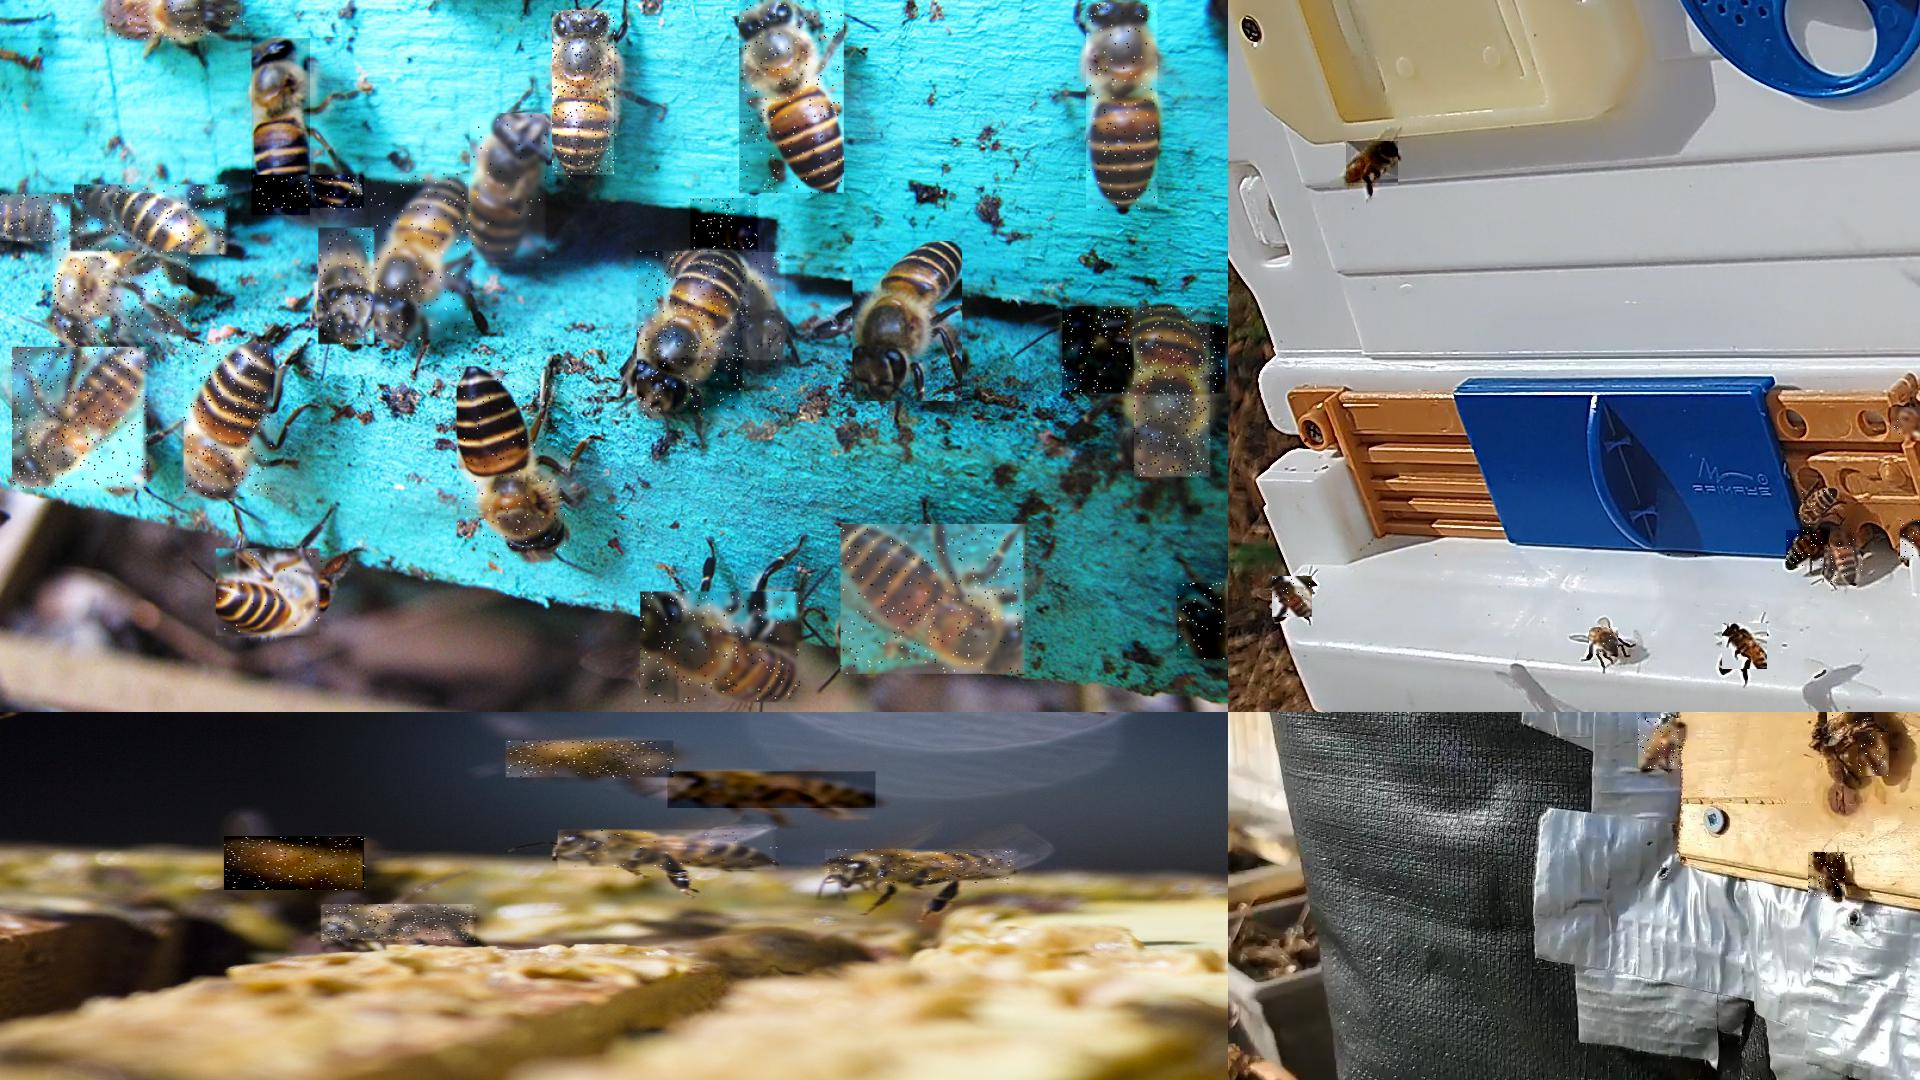bee: (841, 524, 1029, 675), (458, 368, 570, 559), (53, 194, 191, 347), (740, 0, 845, 195), (13, 348, 150, 493), (853, 241, 968, 402), (638, 252, 748, 419), (641, 592, 803, 704), (372, 174, 472, 342), (1087, 4, 1159, 212), (1063, 306, 1226, 394), (185, 344, 274, 498), (1135, 307, 1215, 479), (667, 252, 787, 361), (471, 113, 550, 262), (75, 185, 231, 256), (252, 38, 314, 216), (554, 12, 618, 179), (216, 549, 326, 637), (559, 829, 781, 872), (669, 771, 881, 810), (225, 836, 369, 890), (319, 228, 376, 345), (825, 849, 1015, 884), (506, 741, 675, 778), (105, 0, 245, 42), (322, 905, 477, 942), (257, 175, 368, 212), (1178, 583, 1226, 661), (691, 199, 760, 252), (0, 194, 65, 243), (1346, 141, 1399, 187), (1722, 622, 1768, 670), (1639, 719, 1681, 770), (1808, 853, 1846, 901), (1273, 576, 1313, 618), (1799, 488, 1838, 529), (1785, 531, 1829, 568), (1830, 526, 1857, 585), (1825, 547, 1863, 585), (1858, 732, 1890, 777), (1826, 712, 1873, 738), (1891, 407, 1919, 440), (1589, 628, 1619, 657), (1900, 520, 1919, 563)
